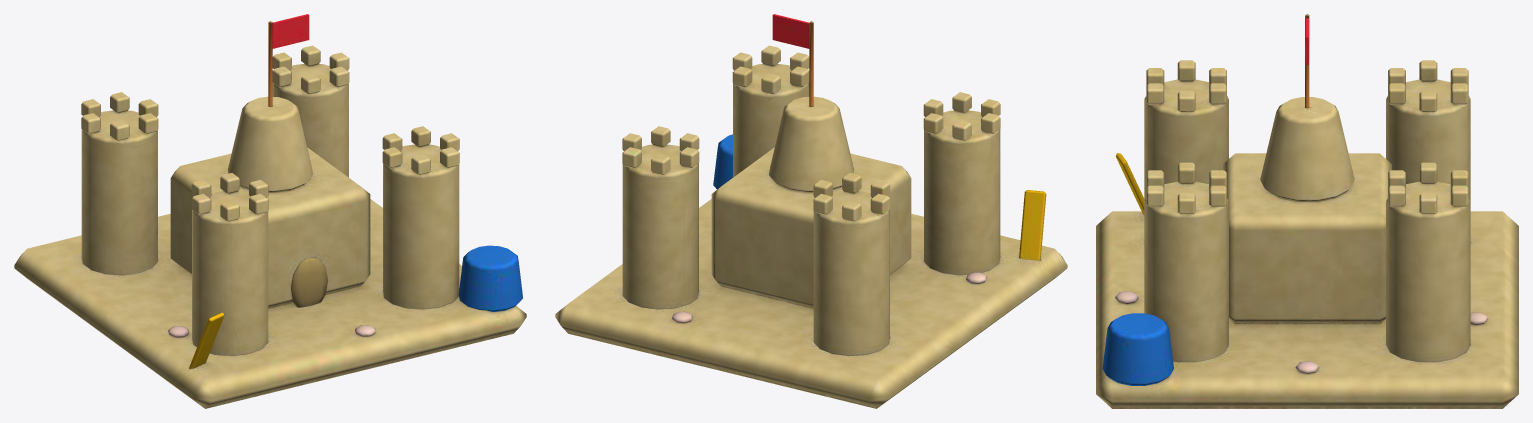
Rendered from sandcastle.glb.
The picture shows the model from 3 angles, left to right: view 1: azimuth 30°, elevation 25°; view 2: azimuth 150°, elevation 25°; view 3: azimuth 270°, elevation 25°; orthographic projection. The views are drawn at different scales.
Parts seen in each view (by area): view 1: sandcastle; view 2: sandcastle; view 3: sandcastle.
Boxes of the visible parts, bbox=[...] form: sandcastle: bbox=[14, 14, 526, 408]; sandcastle: bbox=[555, 14, 1067, 408]; sandcastle: bbox=[1096, 14, 1518, 408].
Size of the model in its own units: 0.7076 by 0.57 by 0.7.
1 material, 1 textured.
